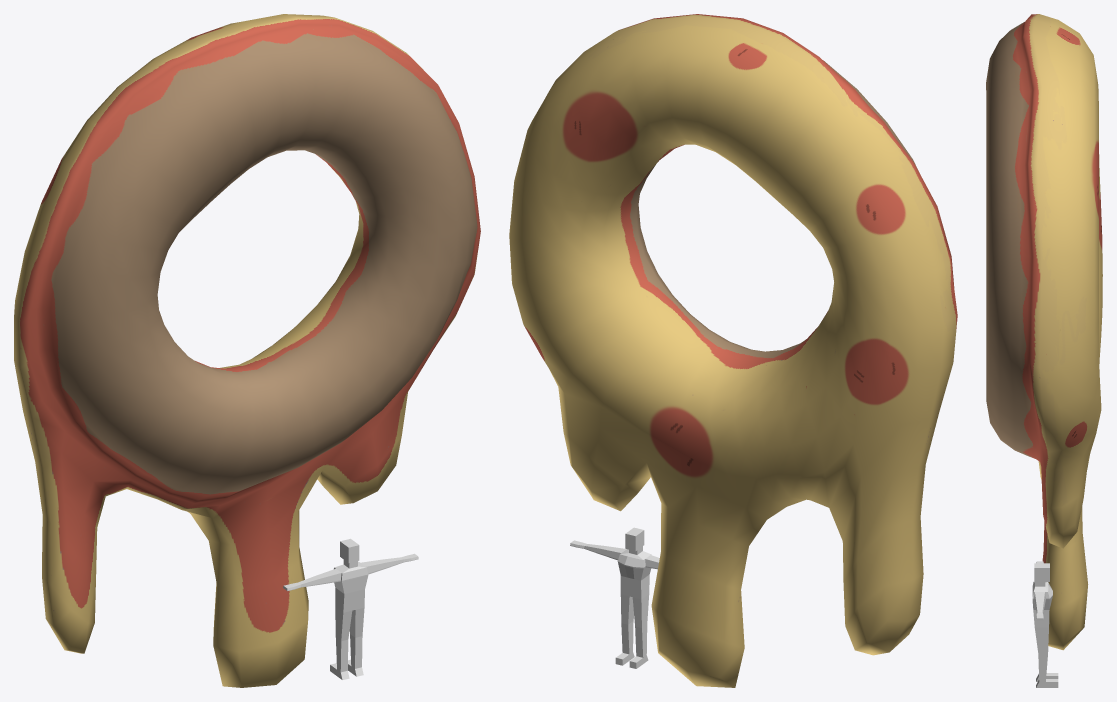
File: pizza_bagel_tunnel.fbx
The picture shows the model from 3 angles, left to right: view 1: azimuth 30°, elevation 25°; view 2: azimuth 150°, elevation 25°; view 3: azimuth 270°, elevation 25°; orthographic projection. The views are drawn at different scales.
Visible parts, largest first — view 1: pizza_bagel_tunnel, reference; view 2: pizza_bagel_tunnel, reference; view 3: pizza_bagel_tunnel, reference.
Part boxes in pixels (bbox=[...]): pizza_bagel_tunnel: bbox=[14, 14, 480, 687]; reference: bbox=[283, 538, 418, 680]; pizza_bagel_tunnel: bbox=[509, 14, 957, 687]; reference: bbox=[570, 527, 659, 668]; pizza_bagel_tunnel: bbox=[986, 14, 1102, 650]; reference: bbox=[1032, 561, 1058, 687].
Size of the model in its own units: 683 by 970 by 170.
